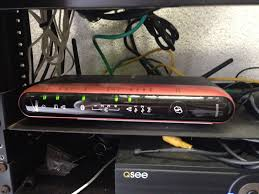Verizon Router: (13, 74, 247, 131)
